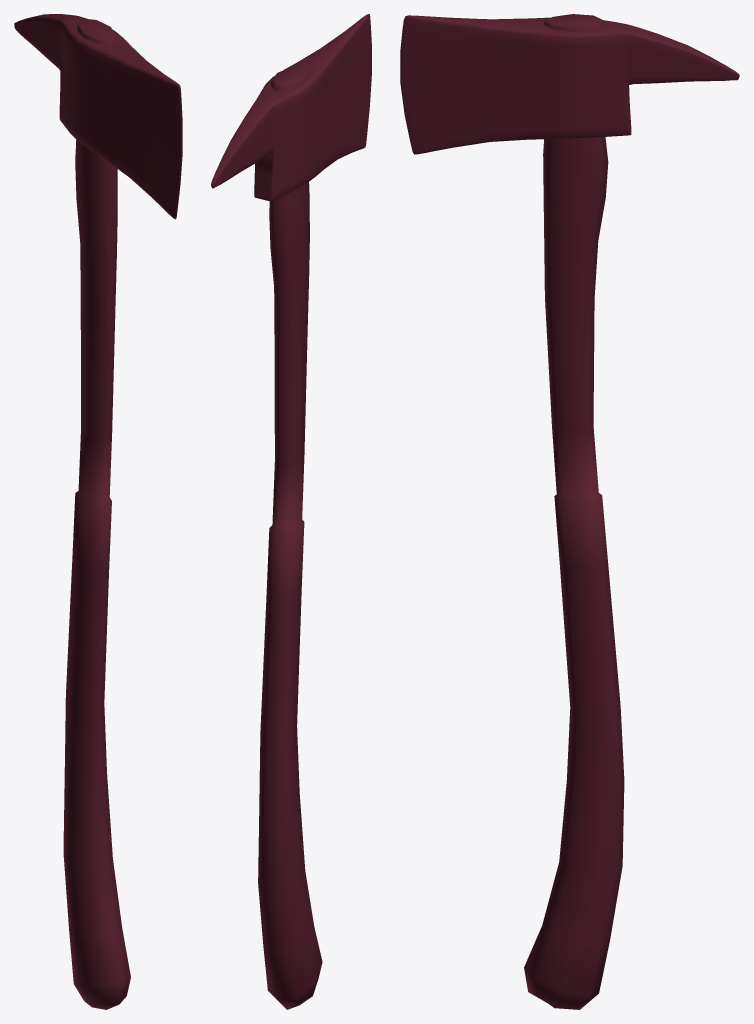
The model's file is FireAxe.fbx.
The picture shows the model from 3 angles, left to right: view 1: azimuth 30°, elevation 25°; view 2: azimuth 150°, elevation 25°; view 3: azimuth 270°, elevation 25°; orthographic projection. The views are drawn at different scales.
Parts seen in each view (by area): view 1: fireaxe; view 2: fireaxe; view 3: fireaxe.
Part boxes in pixels (x1,y1,x2,y2): fireaxe: (14, 14, 182, 1009); fireaxe: (211, 14, 371, 1009); fireaxe: (400, 14, 739, 1009).
Bounding box in the file's own units: 0.0392 × 0.8366 × 0.259.
